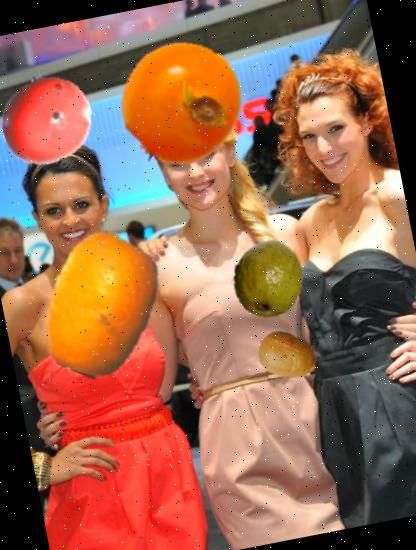Guava: (221, 231, 316, 326)
Kaki: (0, 64, 100, 173)
Kiwi: (252, 320, 322, 390)
Kumquats: (16, 219, 186, 390)
Physalis: (110, 29, 253, 172)
